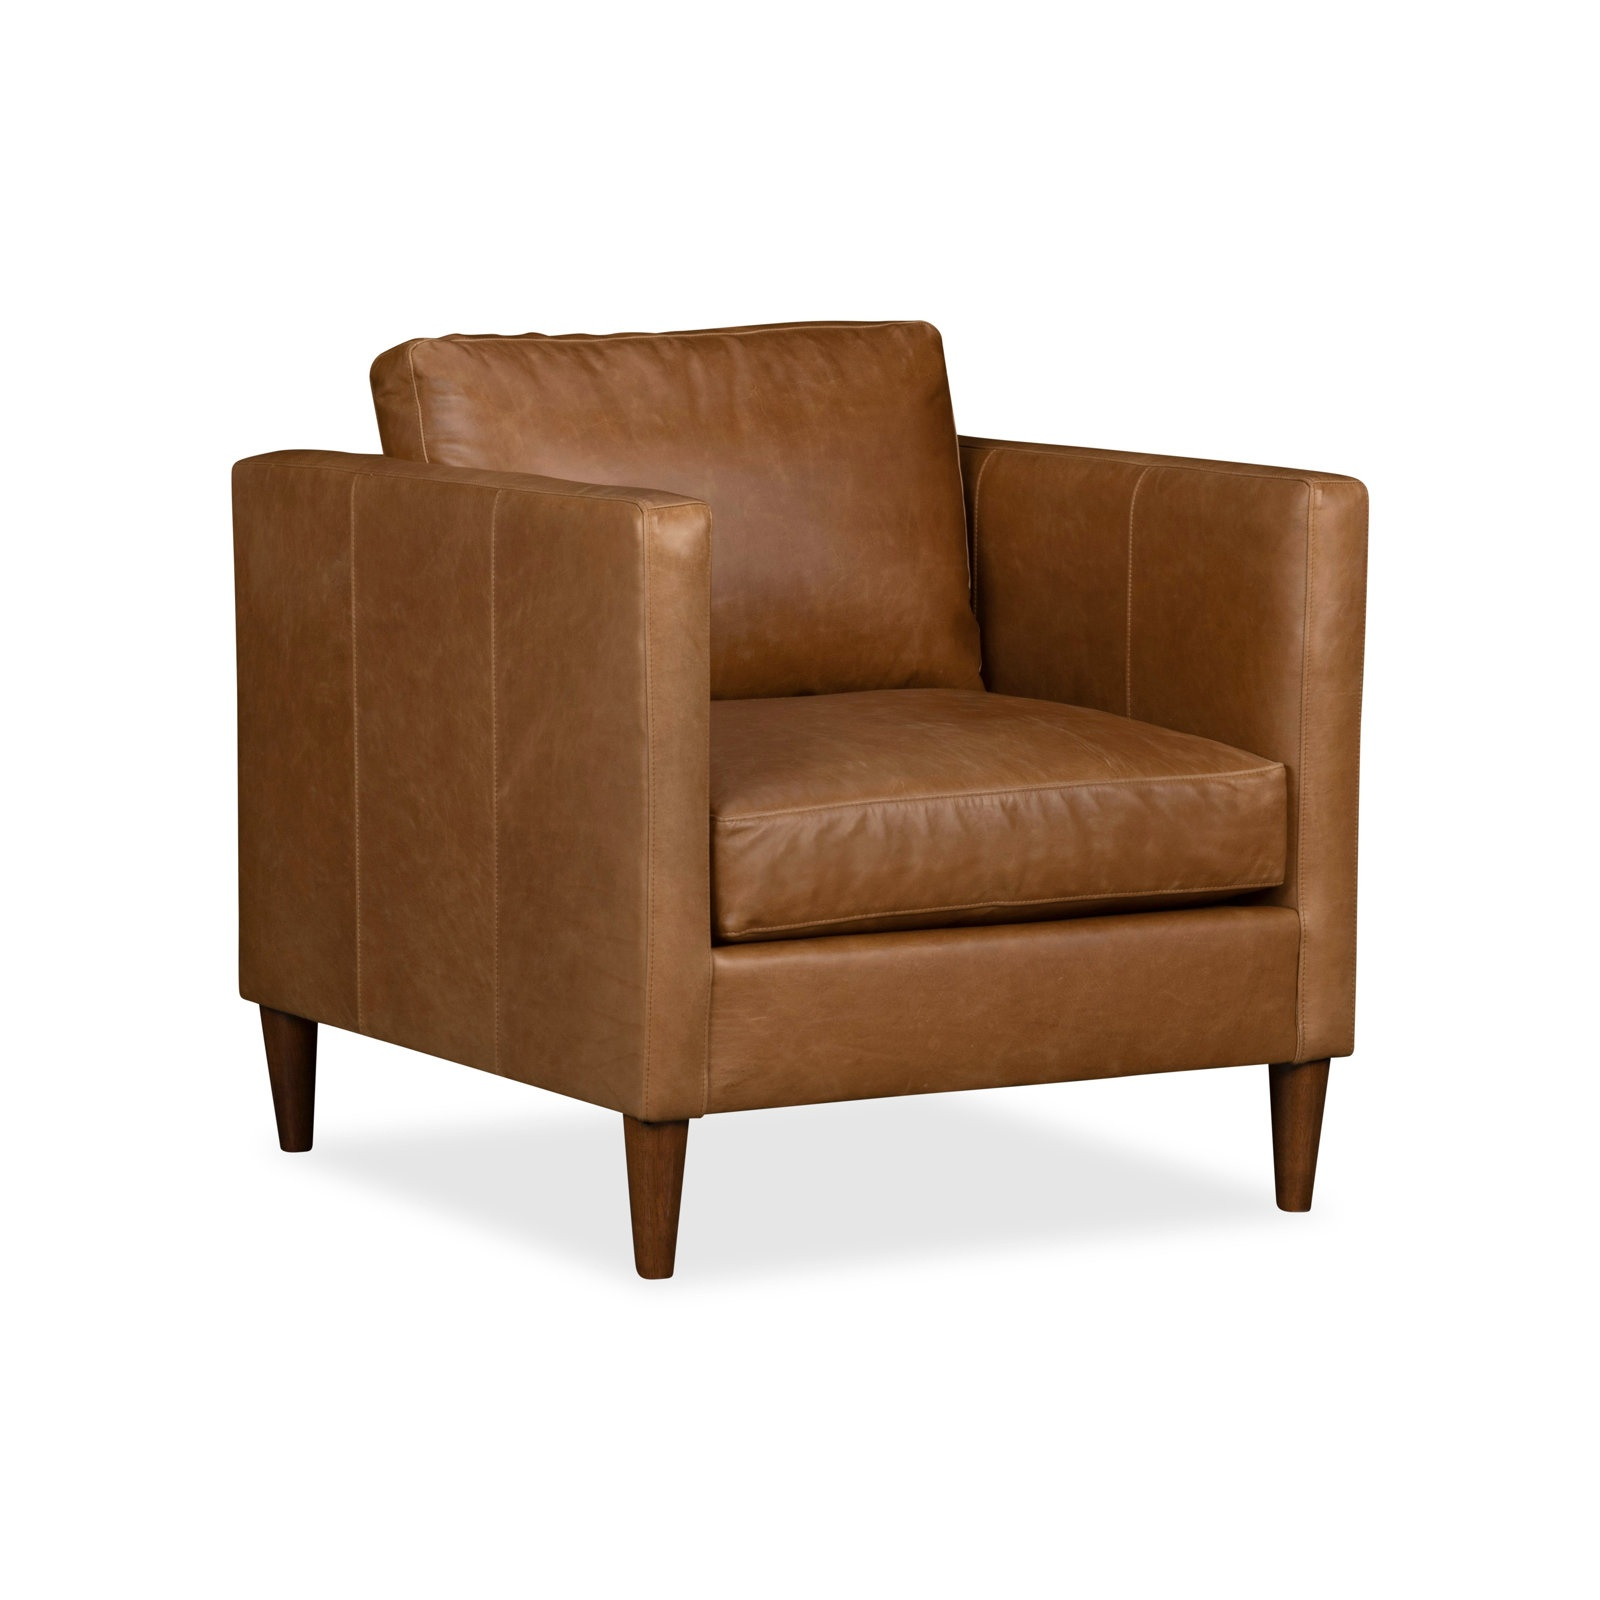obstacle: (233, 322, 1366, 1275)
